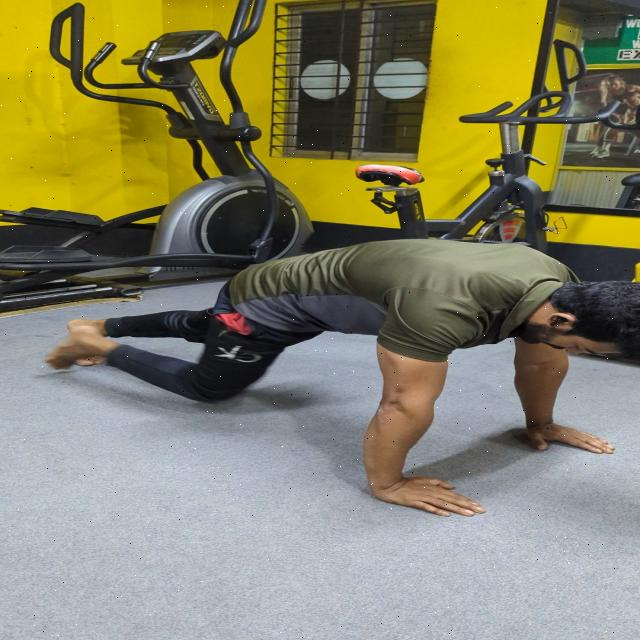Normal_MountainClimbers: (0, 189, 640, 520)
